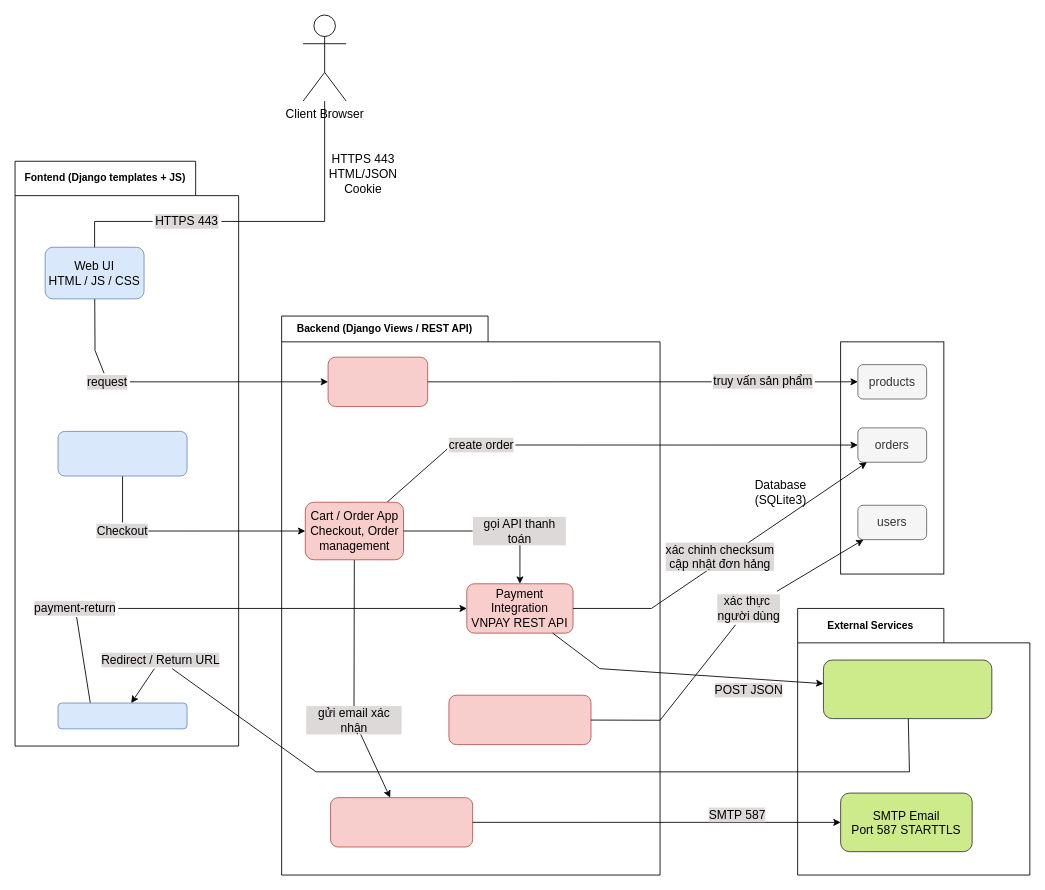
Image size: 1045x890. Some labels were removed from this diagram. Here are the shapes that lost their labels. From the top down, the centre of each, then its label:
[377,381]: Product App List, Detail, Search
[122,453]: Cart / Checkout page AJAX / Fetch API
[907,689]: VNPAY REST API Unsopported markdown: link
[122,715]: Order confirmation page
[519,719]: Auth App Login, Register, JW / Session
[401,822]: Email Service Send order Confirmation
